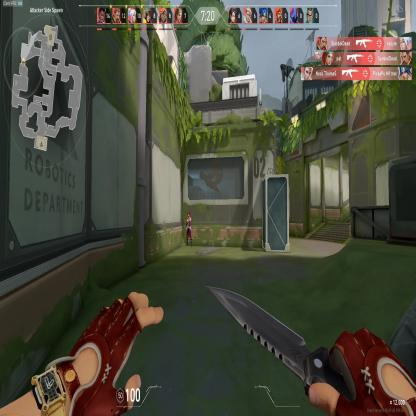enemy: (185, 210, 192, 247)
